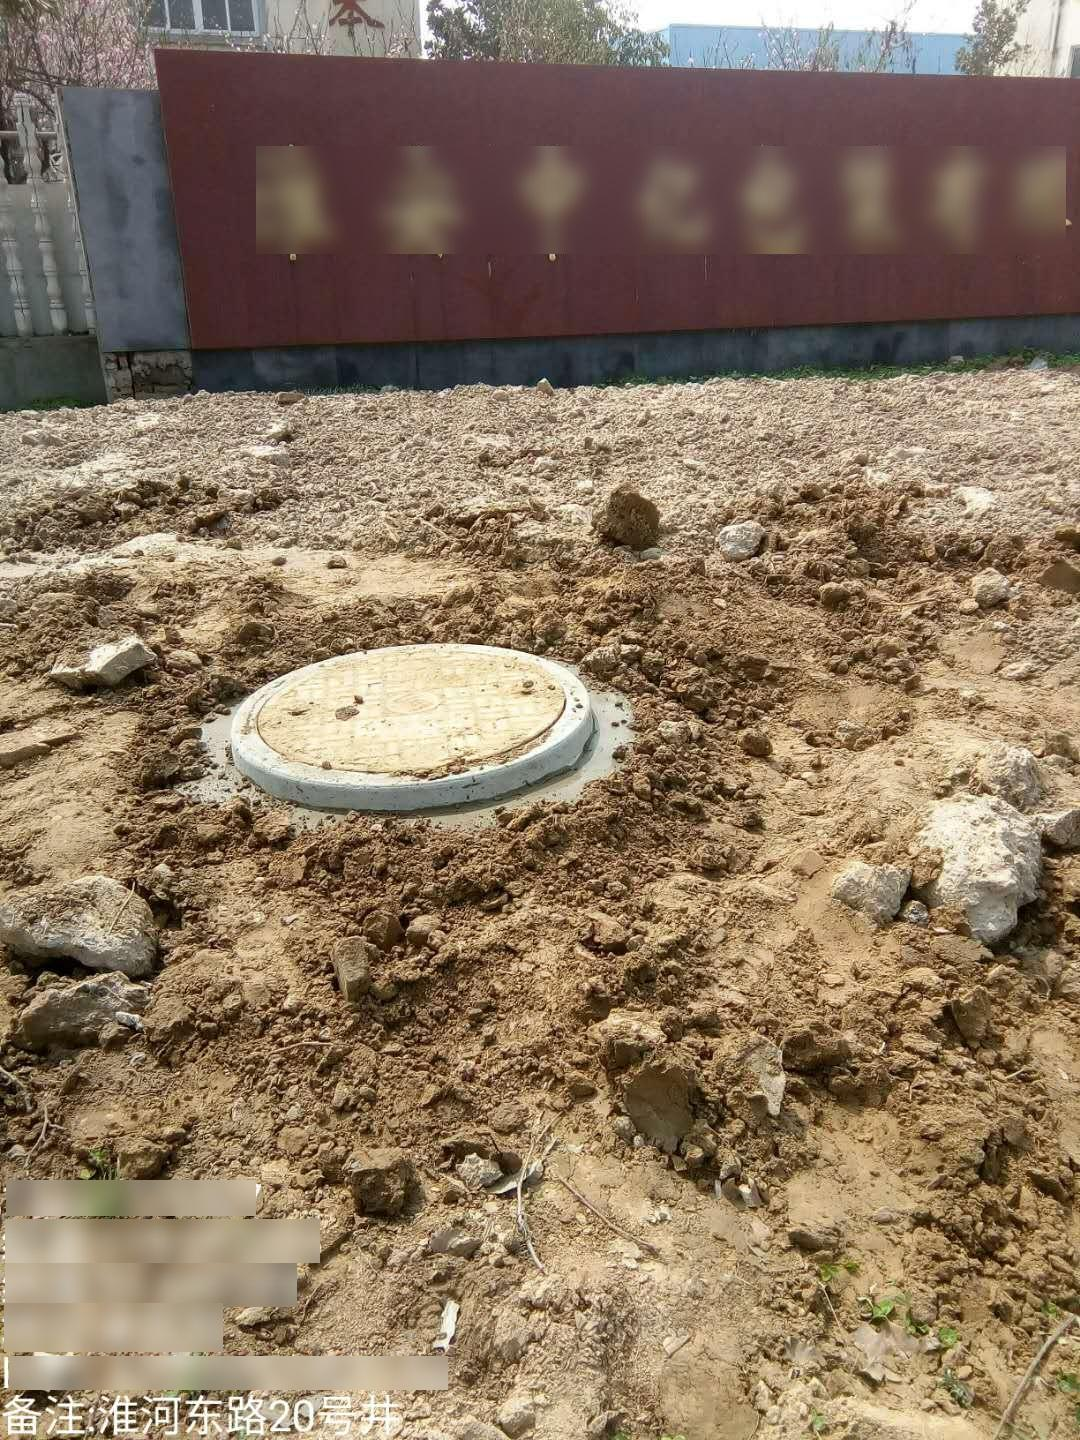wellcover: (209, 646, 615, 811)
